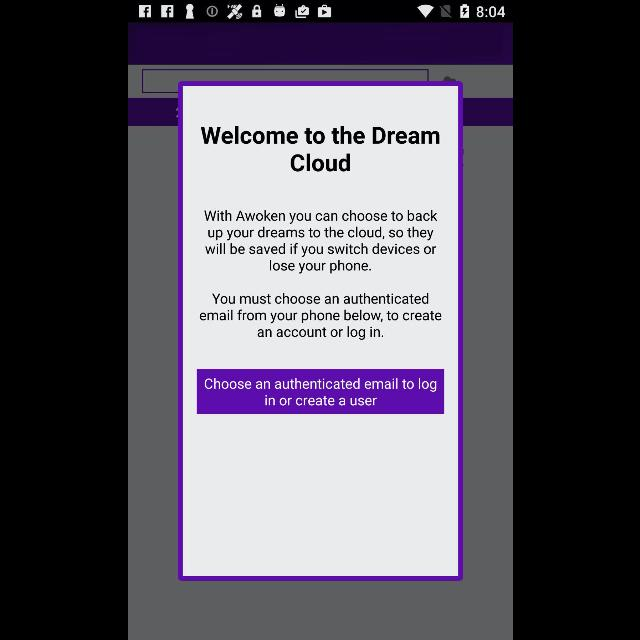panel: (178, 81, 462, 581)
text: (203, 210, 437, 274), (199, 293, 441, 341), (199, 126, 439, 172)
textbutton: (196, 370, 444, 414)
uppertaskbar: (128, 1, 512, 23)
